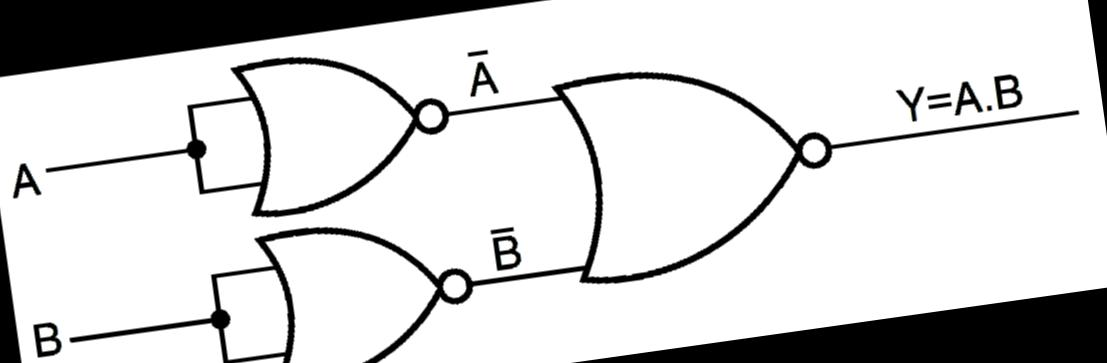nor: (536, 32, 862, 302), (212, 24, 469, 230), (235, 197, 490, 363)
